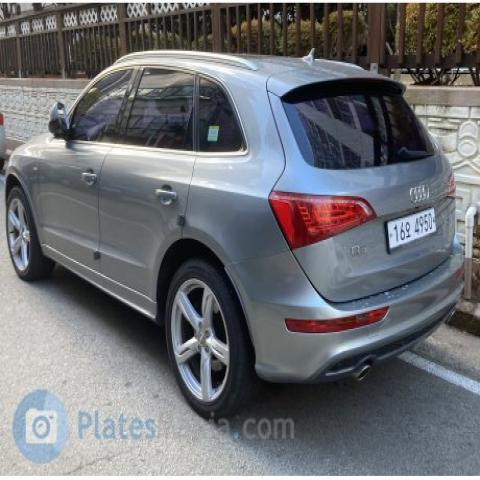LP: (380, 197, 446, 261)
